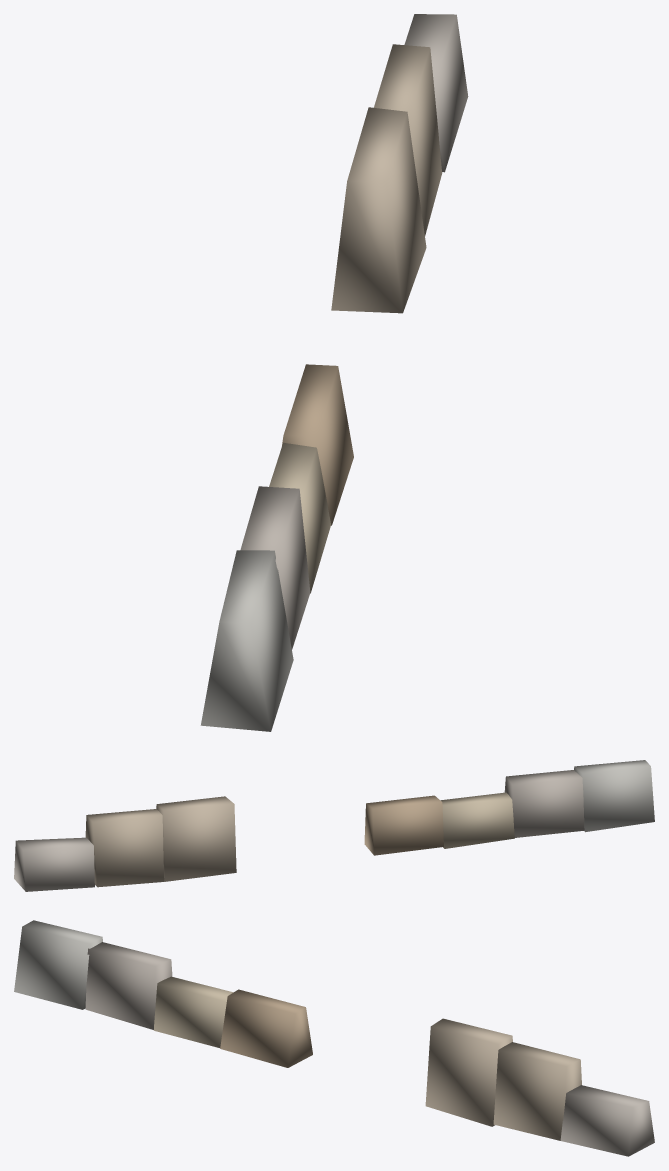
Rendered from farm_25_17_far.glb.
3 views of the same model, one above another, from view 1: azimuth 30°, elevation 25°; view 2: azimuth 150°, elevation 25°; view 3: azimuth 270°, elevation 25° (orthographic). The views are drawn at different scales.
Visible parts, largest first — view 1: geometry_0; view 2: geometry_0; view 3: geometry_0.
Boxes of the visible parts, x1=… form: geometry_0: x1=200, y1=14, x2=468, y2=731; geometry_0: x1=14, y1=760, x2=654, y2=891; geometry_0: x1=14, y1=920, x2=654, y2=1156.
Bounding box in the file's own units: 8.86 × 1.99 × 10.94.
